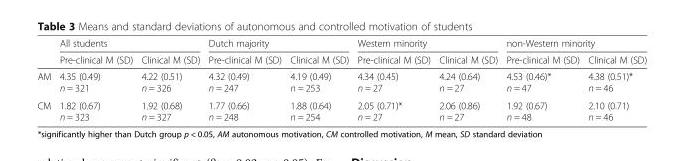table: (36, 37, 646, 122)
table column: (54, 37, 136, 122), (203, 37, 285, 122), (352, 37, 434, 122), (501, 37, 583, 122), (136, 37, 203, 122), (285, 37, 352, 122), (434, 37, 501, 122), (583, 37, 646, 122), (36, 37, 54, 122)
table column header: (36, 37, 646, 67)
table row: (36, 67, 646, 96), (36, 96, 646, 122), (36, 51, 646, 67), (36, 37, 646, 51)
table spanning cell: (54, 37, 203, 51), (203, 37, 352, 51), (352, 37, 501, 51), (501, 37, 646, 51)
